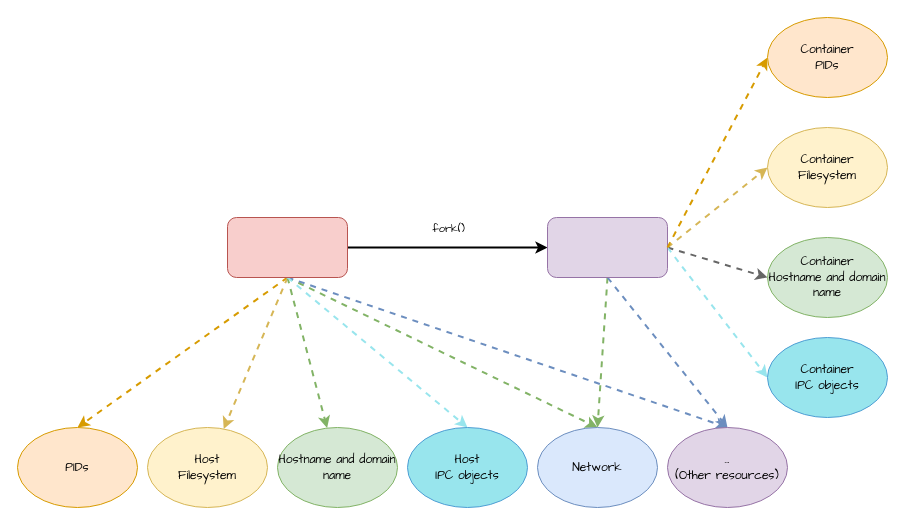
This 905x525 diagram has some shape labels left out. The shapes that lost their labels are listed below. From the top down, each one's box as (x1, y1, x2, y2) in pixels, then its label:
(226, 216, 348, 278): Container Agent
(546, 216, 668, 278): Container
